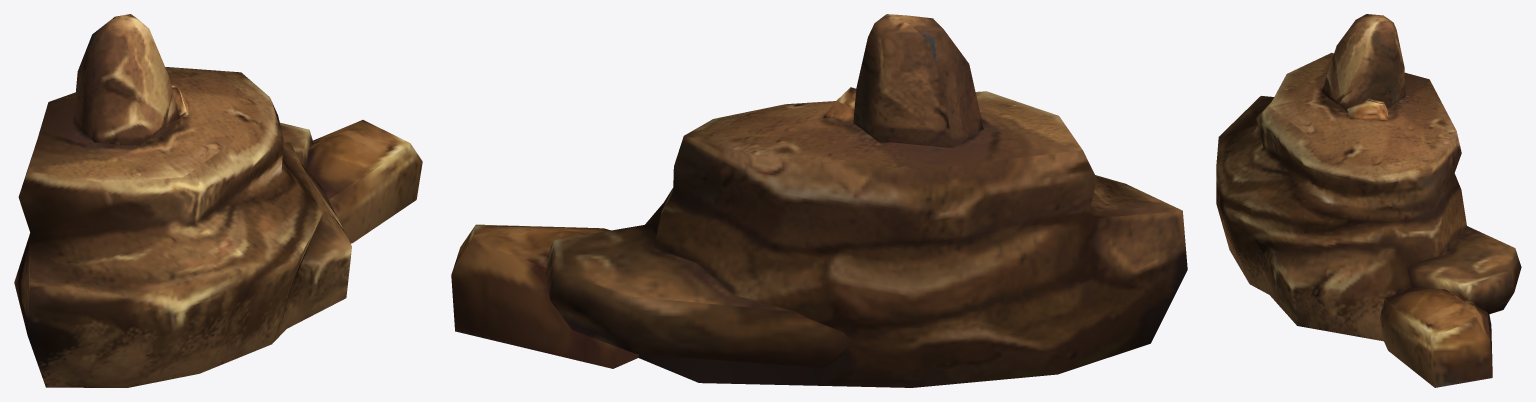
Rendered from ShiTou03.FBX.
The picture shows the model from 3 angles, left to right: view 1: azimuth 30°, elevation 25°; view 2: azimuth 150°, elevation 25°; view 3: azimuth 270°, elevation 25°; orthographic projection. The views are drawn at different scales.
Parts seen in each view (by area): view 1: ShiTou03; view 2: ShiTou03; view 3: ShiTou03.
Part boxes in pixels (left/top/right/bottom): ShiTou03: left=14, top=14, right=422, bottom=387; ShiTou03: left=451, top=14, right=1187, bottom=387; ShiTou03: left=1216, top=14, right=1521, bottom=387.
Bounding box in the file's own units: 478 × 261 × 304.
